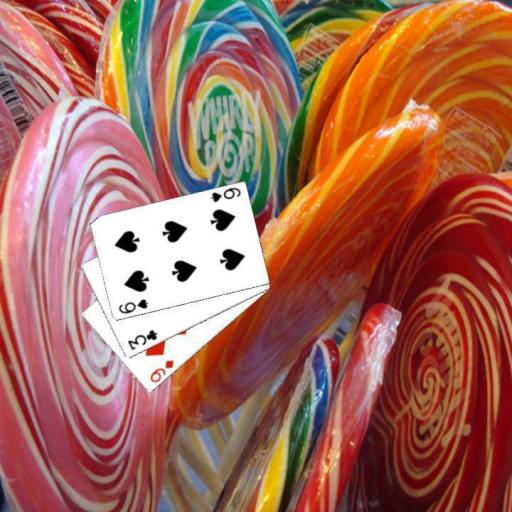card-corner: (124, 327, 158, 352), (146, 357, 175, 385), (116, 296, 150, 316), (208, 185, 242, 204)
